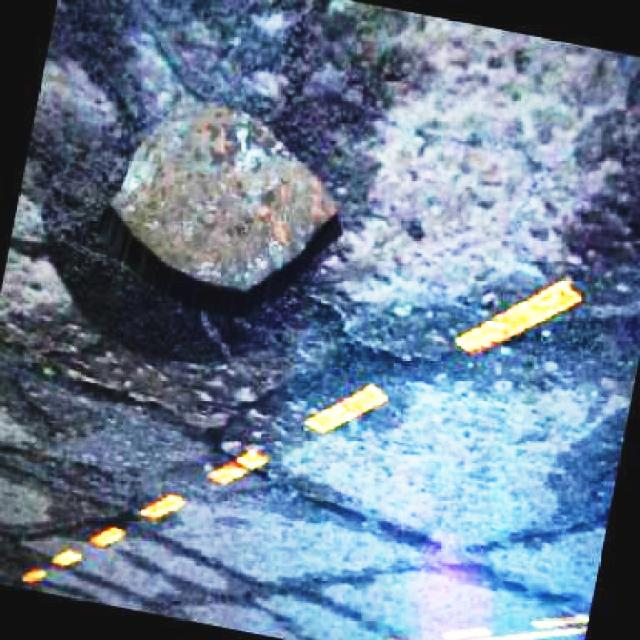pothole: (103, 89, 339, 303)
